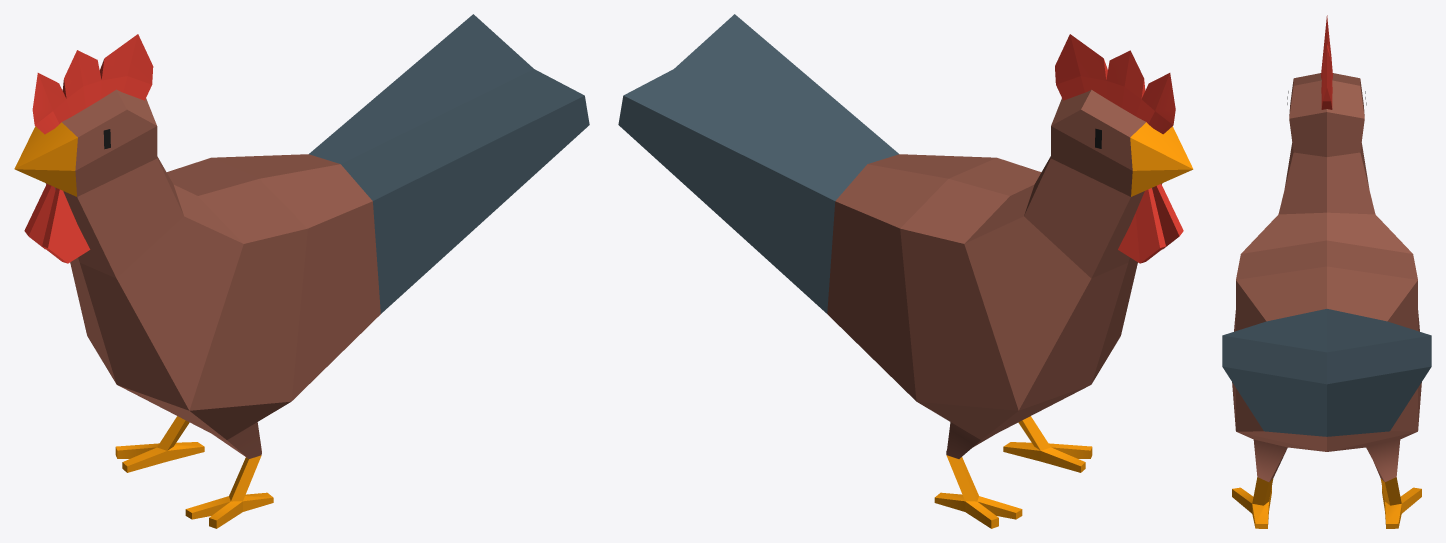
File: hen.glb
3 renders of one model, left to right at view 1: azimuth 30°, elevation 25°; view 2: azimuth 150°, elevation 25°; view 3: azimuth 270°, elevation 25°, orthographic. The views are drawn at different scales.
Visible parts, largest first — view 1: Hen; view 2: Hen; view 3: Hen.
Boxes of the visible parts, left/top/right/bottom form: Hen: left=14, top=14, right=589, bottom=528; Hen: left=618, top=14, right=1193, bottom=528; Hen: left=1222, top=15, right=1431, bottom=528.
Size of the model in its own units: 14.04 by 11.89 by 5.16.
